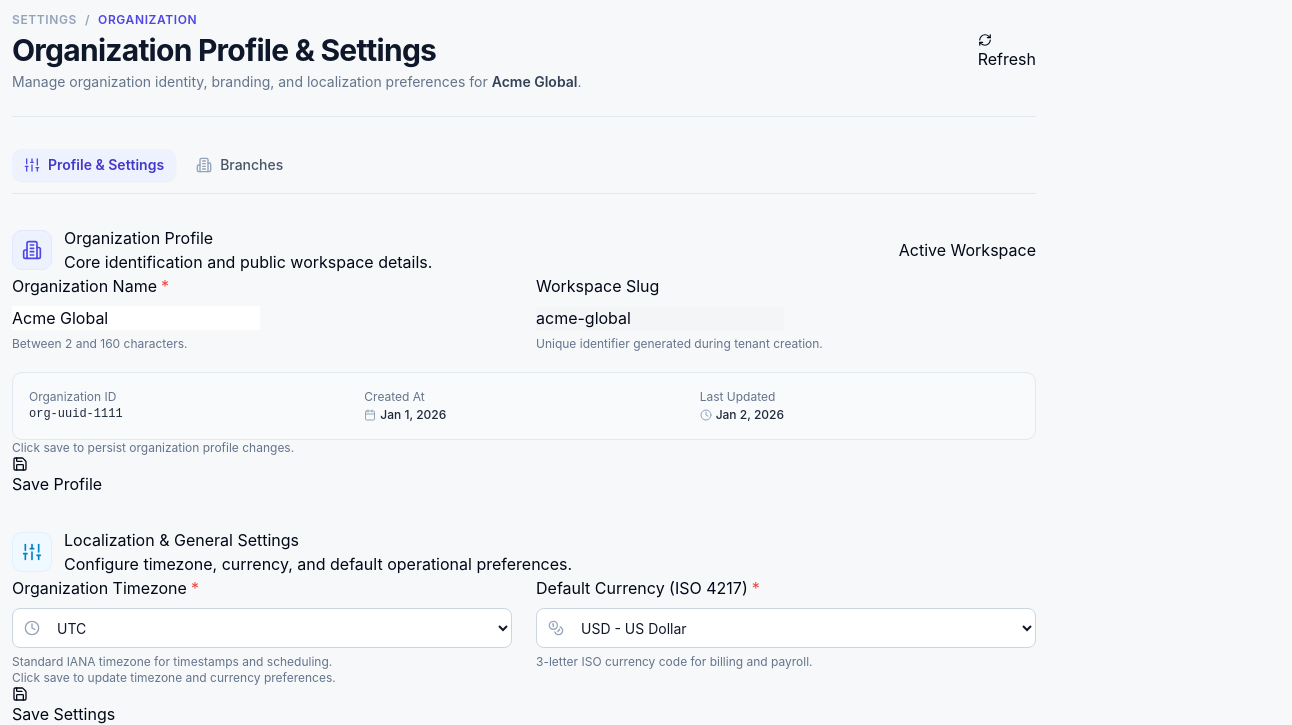
Test case: OrganizationSettingsPage Component › handles API error feedback properly when profile save fails with 422 or 403
Replace the text in the field labelled "Organization Name*" with "Existing Corp" at (136, 318), box [12, 306, 260, 330]
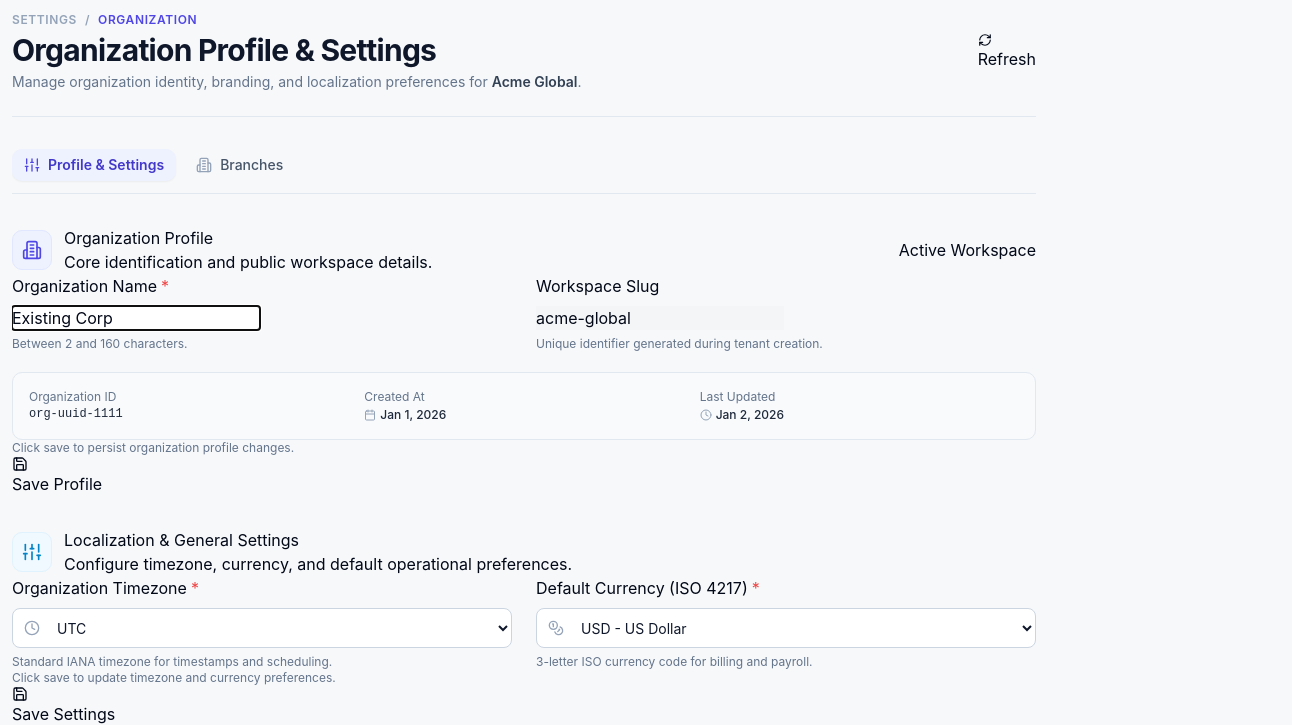
Click the button "Save Profile" at (57, 476), box [12, 456, 102, 496]
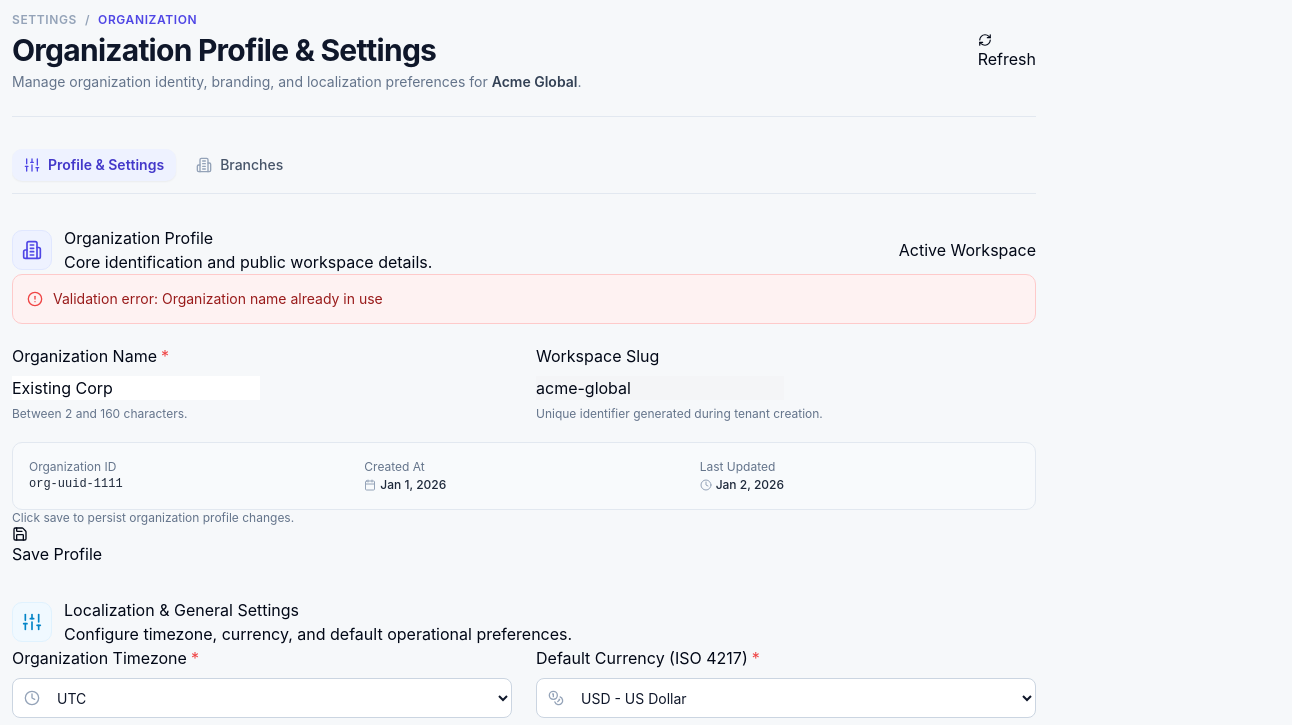
expect the message reads "Validation error: Organization name already in use": met, box [53, 290, 383, 307]
